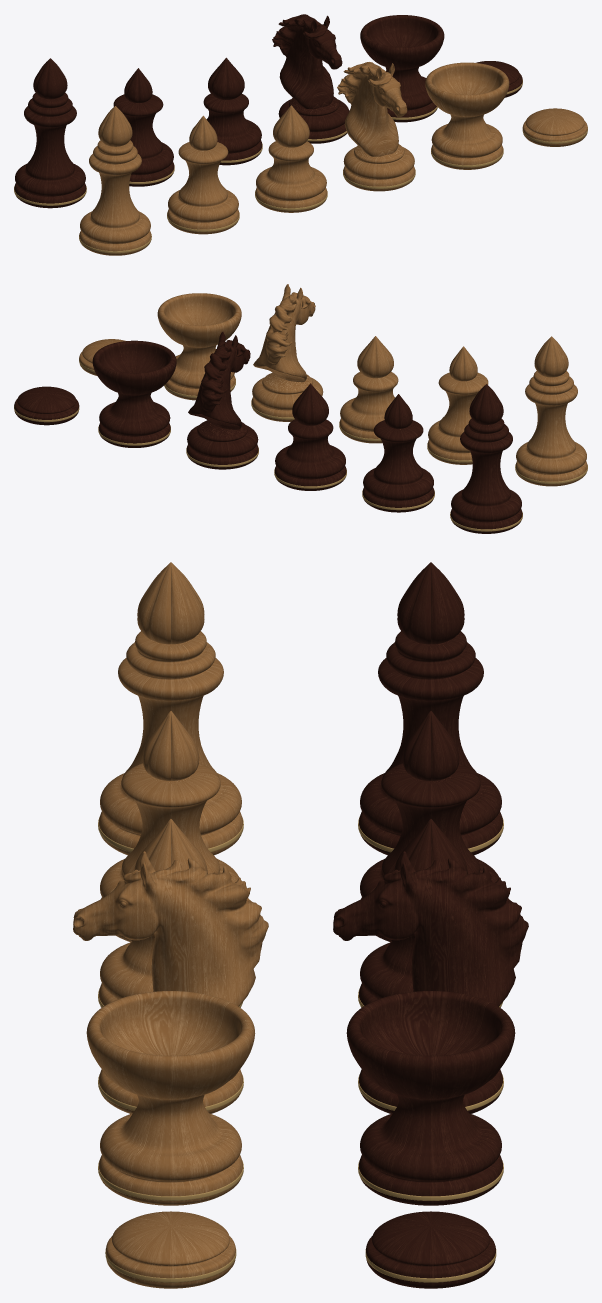
File: atelier.glb
3 views of the same model, one above another, from view 1: azimuth 30°, elevation 25°; view 2: azimuth 150°, elevation 25°; view 3: azimuth 270°, elevation 25° (orthographic). The views are drawn at different scales.
Parts seen in each view (by area): view 1: Touk hollow turned bowl, Turned foot waist and collars.003, Turned foot waist and collars, Touk hollow turned bowl.001, Ses carved anatomical bust.001, Ses carved anatomical bust, Turned foot waist and collars.001, Turned foot waist and collars.002, Turned foot waist and collars.004, Turned foot waist and collars.005, Ses turned foot, Trey domed counter (+8 smaller); view 2: Touk hollow turned bowl.001, Turned foot waist and collars.003, Turned foot waist and collars, Touk hollow turned bowl, Turned foot waist and collars.004, Turned foot waist and collars.005, Ses carved anatomical bust.001, Ses carved anatomical bust, Turned foot waist and collars.001, Ses turned foot.001, Turned foot waist and collars.002, Ses turned foot (+8 smaller); view 3: Touk hollow turned bowl, Touk hollow turned bowl.001, Ses carved anatomical bust, Ses carved anatomical bust.001, Turned foot waist and collars.003, Turned foot waist and collars, Trey domed counter.001, Trey domed counter, Turned foot waist and collars.001, Turned foot waist and collars.004, Incised lotus bud, Incised lotus bud.003 (+8 smaller).
Part boxes in pixels (bbox=[...]): Touk hollow turned bowl: bbox=[425, 62, 509, 169]; Turned foot waist and collars.003: bbox=[14, 92, 86, 208]; Turned foot waist and collars: bbox=[79, 140, 151, 255]; Touk hollow turned bowl.001: bbox=[360, 15, 444, 122]; Ses carved anatomical bust.001: bbox=[272, 14, 342, 109]; Ses carved anatomical bust: bbox=[337, 62, 407, 156]; Turned foot waist and collars.001: bbox=[167, 142, 239, 234]; Turned foot waist and collars.002: bbox=[255, 141, 327, 212]; Turned foot waist and collars.004: bbox=[113, 94, 174, 186]; Turned foot waist and collars.005: bbox=[203, 93, 262, 165]; Ses turned foot: bbox=[343, 144, 415, 191]; Trey domed counter: bbox=[522, 108, 587, 146]; Touk hollow turned bowl.001: bbox=[92, 340, 176, 447]; Turned foot waist and collars.003: bbox=[450, 418, 522, 533]; Turned foot waist and collars: bbox=[515, 371, 587, 486]; Touk hollow turned bowl: bbox=[157, 293, 241, 400]; Turned foot waist and collars.004: bbox=[362, 420, 434, 512]; Turned foot waist and collars.005: bbox=[274, 419, 346, 490]; Ses carved anatomical bust.001: bbox=[188, 331, 250, 429]; Ses carved anatomical bust: bbox=[253, 284, 315, 382]; Turned foot waist and collars.001: bbox=[427, 372, 488, 464]; Ses turned foot.001: bbox=[186, 420, 258, 469]; Turned foot waist and collars.002: bbox=[339, 372, 408, 443]; Ses turned foot: bbox=[251, 372, 323, 421]; Touk hollow turned bowl: bbox=[86, 991, 255, 1205]; Touk hollow turned bowl.001: bbox=[346, 991, 515, 1205]; Ses carved anatomical bust: bbox=[73, 851, 268, 1006]; Ses carved anatomical bust.001: bbox=[333, 851, 528, 1006]; Turned foot waist and collars.003: bbox=[359, 631, 502, 855]; Turned foot waist and collars: bbox=[98, 631, 242, 855]; Trey domed counter.001: bbox=[366, 1211, 495, 1288]; Trey domed counter: bbox=[105, 1211, 235, 1288]; Turned foot waist and collars.001: bbox=[100, 763, 239, 942]; Turned foot waist and collars.004: bbox=[360, 763, 499, 942]; Incised lotus bud: bbox=[137, 562, 204, 644]; Incised lotus bud.003: bbox=[397, 562, 464, 644].
Size of the model in its own units: 0.2841 by 0.0741 by 0.1122.
Materials: 5 (4 with a texture image).
